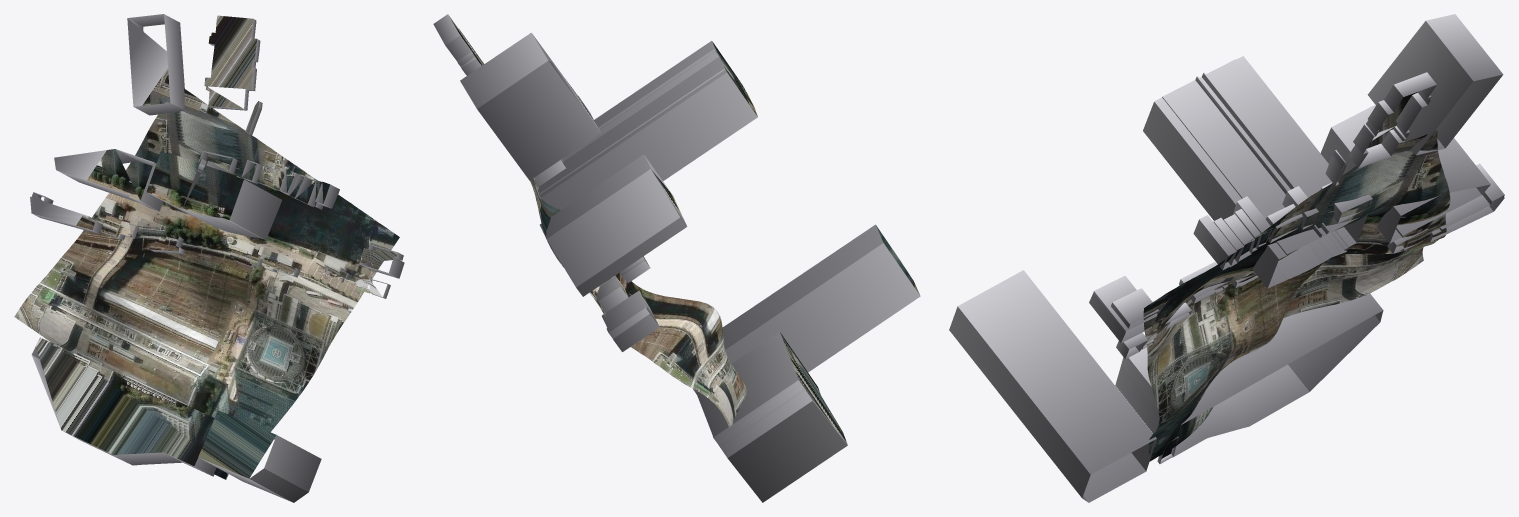
3 views of the same model, side by side, from view 1: azimuth 30°, elevation 25°; view 2: azimuth 150°, elevation 25°; view 3: azimuth 270°, elevation 25° (orthographic). The views are drawn at different scales.
Bounding box in the file's own units: 299 × 375 × 390.
Materials: 1 (1 with a texture image).
